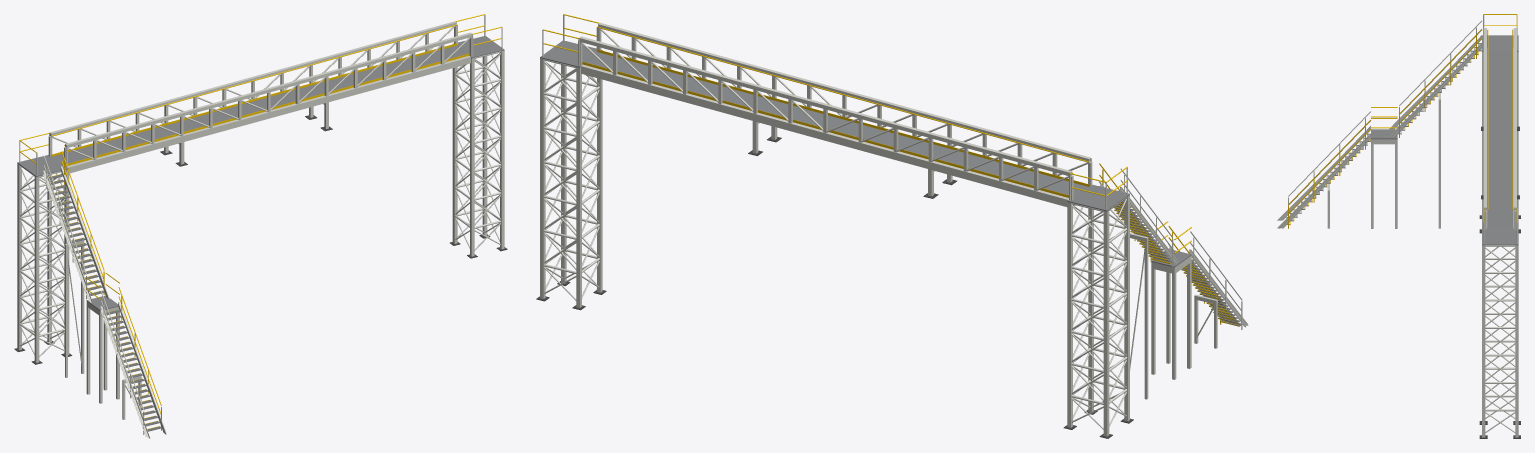
Rendered from Dumper_Access.glb.
3 renders of one model, left to right at view 1: azimuth 30°, elevation 25°; view 2: azimuth 150°, elevation 25°; view 3: azimuth 270°, elevation 25°, orthographic. The views are drawn at different scales.
Parts seen in each view (by area): view 1: ramp_deck_7918c7, ramp_bottom_chord_-1_75d5ae, ramp_top_chord_-1_49dc46, ramp_top_chord_1_665e5f, ramp_top_chord_-1_63f4c8, ramp_top_chord_1_651b9e, ramp_toe_plate_-1_09ef56, ramp_toe_plate_1_1bbe2e, ramp_bottom_chord_-1_e01060, far_tower_leg_1_5cb097, far_tower_leg_0_115e82, stair_tower_leg_1_ad8d21 (+9 smaller); view 2: ramp_deck_7918c7, ramp_bottom_chord_1_9d6c6e, ramp_top_chord_1, ramp_top_chord_-1_739abe, ramp_top_chord_1_651b9e, ramp_top_chord_-1_63f4c8, ramp_toe_plate_1_aa1fcd, ramp_toe_plate_-1_3963fb, ramp_bottom_chord_1_30cf5f, stair_tower_leg_2_17621d, far_tower_leg_2, far_tower_leg_3_cf37aa (+9 smaller); view 3: ramp_deck_7918c7, far_tower_leg_3_8c2fac, far_tower_leg_0_7c98f8, ramp_top_chord_-1_63f4c8, ramp_top_chord_1_651b9e, far_tower_top_platform_90a3c9, stair_lower_stringer_-1_cb4621, stair_tower_top_platform_1facf0, stair_upper_stringer_1_b05a18, stair_upper_stringer_-1_27e069, stair_lower_stringer_1_ef4e6d, stair_support_up_leg_-1_e0dd3a (+6 smaller).
Boxes of the visible parts, x1=… form: ramp_deck_7918c7: x1=52, y1=46, x2=466, y2=164; ramp_bottom_chord_-1_75d5ae: x1=68, y1=57, x2=470, y2=173; ramp_top_chord_-1_49dc46: x1=67, y1=34, x2=471, y2=147; ramp_top_chord_1_665e5f: x1=51, y1=22, x2=456, y2=136; ramp_top_chord_-1_63f4c8: x1=65, y1=32, x2=471, y2=144; ramp_top_chord_1_651b9e: x1=50, y1=21, x2=456, y2=133; ramp_toe_plate_-1_09ef56: x1=68, y1=53, x2=469, y2=165; ramp_toe_plate_1_1bbe2e: x1=51, y1=43, x2=456, y2=156; ramp_bottom_chord_-1_e01060: x1=68, y1=56, x2=470, y2=167; far_tower_leg_1_5cb097: x1=471, y1=58, x2=474, y2=256; far_tower_leg_0_115e82: x1=501, y1=50, x2=504, y2=249; stair_tower_leg_1_ad8d21: x1=36, y1=176, x2=39, y2=362; ramp_deck_7918c7: x1=586, y1=52, x2=1088, y2=197; ramp_bottom_chord_1_9d6c6e: x1=581, y1=66, x2=1067, y2=206; ramp_top_chord_1: x1=579, y1=38, x2=1069, y2=176; ramp_top_chord_-1_739abe: x1=598, y1=24, x2=1088, y2=162; ramp_top_chord_1_651b9e: x1=579, y1=36, x2=1071, y2=172; ramp_top_chord_-1_63f4c8: x1=598, y1=22, x2=1090, y2=158; ramp_toe_plate_1_aa1fcd: x1=582, y1=62, x2=1068, y2=197; ramp_toe_plate_-1_3963fb: x1=597, y1=49, x2=1088, y2=186; ramp_bottom_chord_1_30cf5f: x1=581, y1=64, x2=1069, y2=200; stair_tower_leg_2_17621d: x1=1103, y1=211, x2=1107, y2=436; far_tower_leg_2: x1=576, y1=67, x2=579, y2=307; far_tower_leg_3_cf37aa: x1=540, y1=58, x2=543, y2=298; ramp_deck_7918c7: x1=1487, y1=50, x2=1513, y2=228; far_tower_leg_3_8c2fac: x1=1515, y1=245, x2=1518, y2=437; far_tower_leg_0_7c98f8: x1=1482, y1=245, x2=1485, y2=437; ramp_top_chord_-1_63f4c8: x1=1483, y1=28, x2=1486, y2=207; ramp_top_chord_1_651b9e: x1=1513, y1=28, x2=1516, y2=207; far_tower_top_platform_90a3c9: x1=1482, y1=229, x2=1518, y2=244; stair_lower_stringer_-1_cb4621: x1=1277, y1=134, x2=1370, y2=228; stair_tower_top_platform_1facf0: x1=1482, y1=35, x2=1518, y2=50; stair_upper_stringer_1_b05a18: x1=1388, y1=36, x2=1481, y2=129; stair_upper_stringer_-1_27e069: x1=1388, y1=44, x2=1481, y2=137; stair_lower_stringer_1_ef4e6d: x1=1277, y1=127, x2=1370, y2=220; stair_support_up_leg_-1_e0dd3a: x1=1438, y1=102, x2=1440, y2=228.
Bounding box in the file's own units: 23.75 × 10.7 × 10.97.
